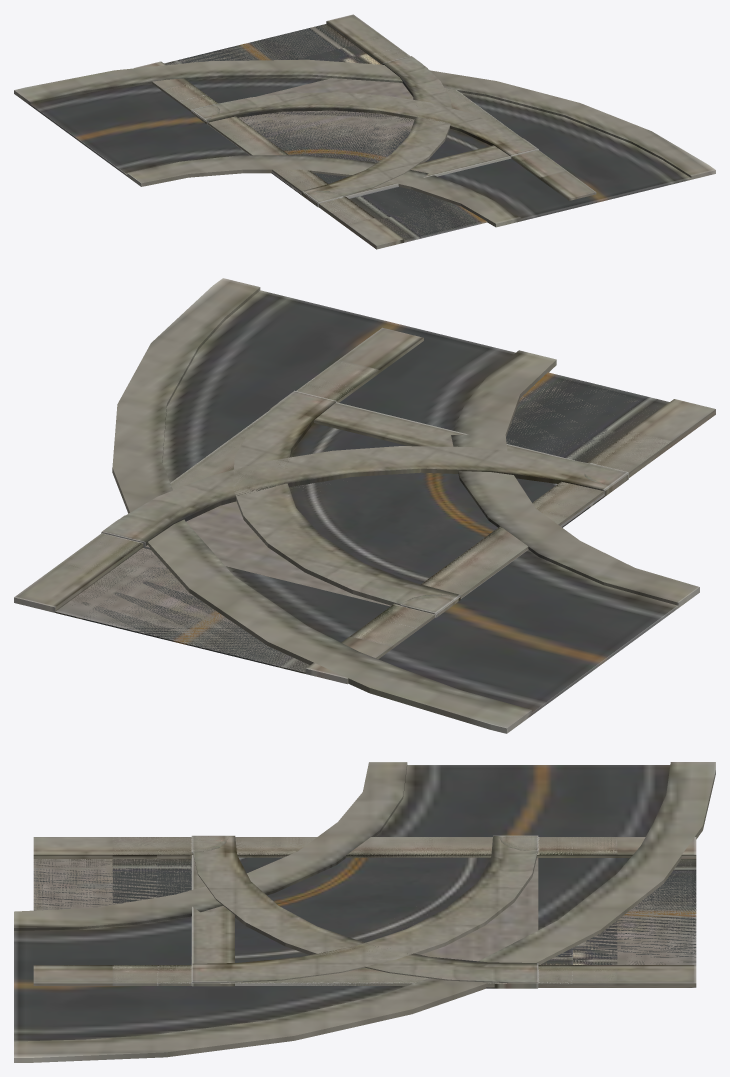
The model's file is kit.glb.
3 renders of one model, top to bottom at view 1: azimuth 30°, elevation 25°; view 2: azimuth 150°, elevation 25°; view 3: azimuth 270°, elevation 25°, orthographic. The views are drawn at different scales.
Parts seen in each view (by area): view 1: curve-big, walk-curve, straight, curve, crosswalk, walk-straight, straight-14, walk-cap; view 2: curve-big, curve, straight, walk-curve, crosswalk, walk-straight, walk-cap, straight-14; view 3: curve-big, curve, walk-straight, crosswalk, straight, walk-curve, straight-14, walk-cap, tee.
Part boxes in pixels (x1,y1,x2,y2): curve-big: [14, 59, 715, 227]; walk-curve: [191, 56, 451, 202]; straight: [134, 14, 596, 249]; curve: [192, 92, 538, 206]; crosswalk: [163, 36, 566, 224]; walk-straight: [151, 14, 594, 247]; straight-14: [179, 48, 528, 212]; walk-cap: [191, 66, 538, 206]; curve-big: [112, 278, 699, 733]; curve: [232, 390, 626, 617]; straight: [14, 327, 715, 683]; walk-curve: [101, 446, 628, 617]; crosswalk: [59, 360, 671, 646]; walk-straight: [14, 328, 710, 683]; walk-cap: [101, 402, 628, 617]; straight-14: [88, 378, 608, 628]; curve-big: [14, 762, 715, 1062]; curve: [191, 835, 538, 985]; walk-straight: [33, 837, 696, 987]; crosswalk: [112, 837, 617, 987]; straight: [33, 837, 696, 985]; walk-curve: [191, 835, 538, 987]; straight-14: [157, 837, 572, 985]; walk-cap: [192, 855, 537, 988]; tee: [190, 839, 427, 985].
Size of the model in its own units: 23.66 by 0.2252 by 23.73.
1 material, 1 textured.
